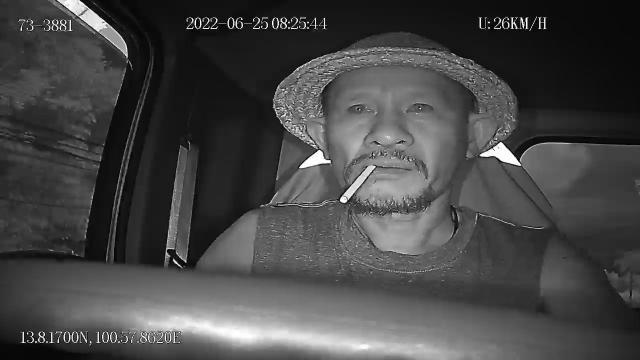SafeDriving: (400, 93, 440, 120), (342, 94, 379, 119)
Smoking: (342, 164, 378, 204)
